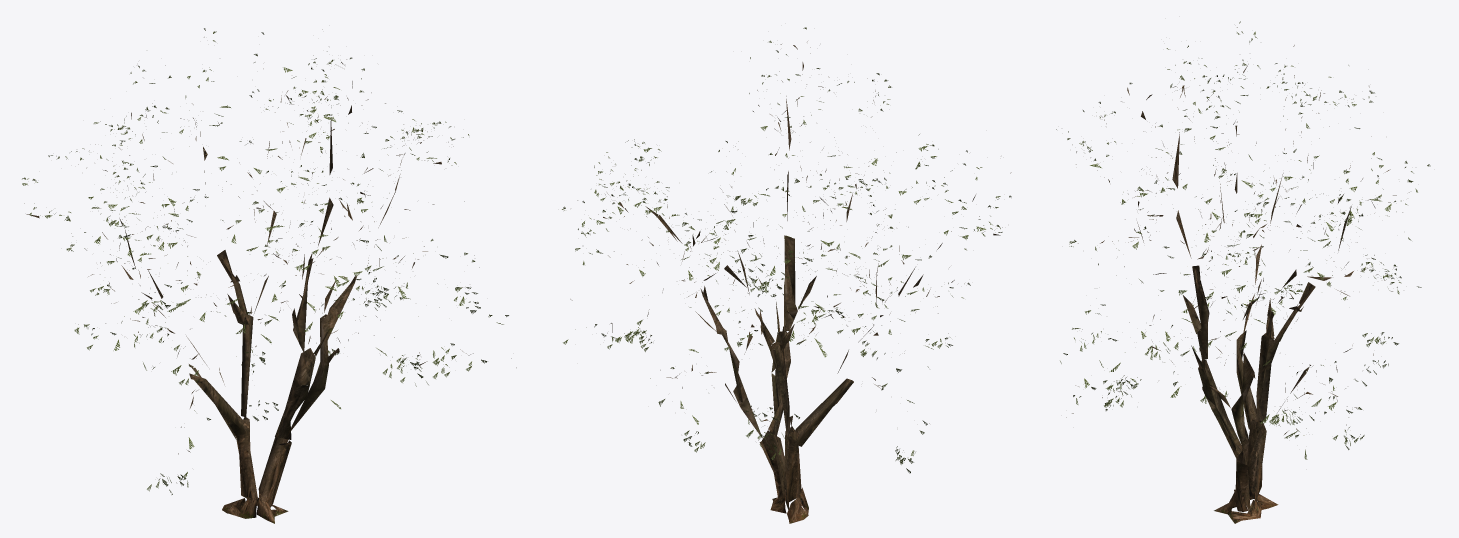
The model's file is tree_jacaranda_young.glb.
3 renders of one model, left to right at view 1: azimuth 30°, elevation 25°; view 2: azimuth 150°, elevation 25°; view 3: azimuth 270°, elevation 25°, orthographic. The views are drawn at different scales.
Visible parts, largest first — view 1: tree_jacaranda_young; view 2: tree_jacaranda_young; view 3: tree_jacaranda_young.
Part boxes in pixels (box(x1,y1,x2,y2)): tree_jacaranda_young: box(22, 28, 516, 523); tree_jacaranda_young: box(562, 27, 1011, 523); tree_jacaranda_young: box(1056, 21, 1430, 523).
Size of what is drawn, in the model's own units: 6.71 by 7 by 5.26.
Materials: 3 (3 with a texture image).
